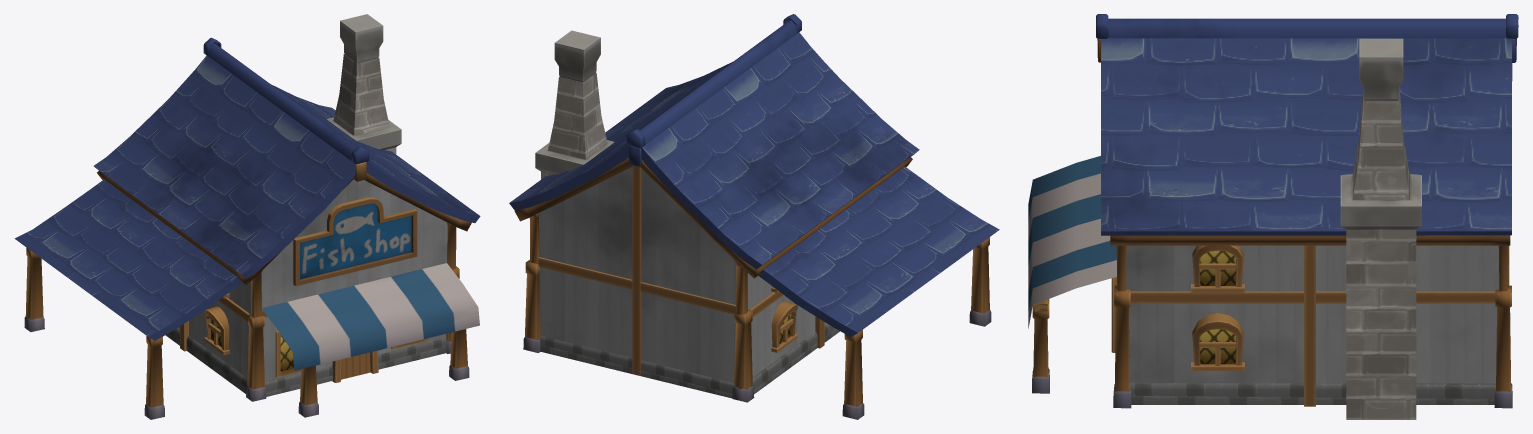
The model's file is fish_shop.fbx.
3 views of the same model, side by side, from view 1: azimuth 30°, elevation 25°; view 2: azimuth 150°, elevation 25°; view 3: azimuth 270°, elevation 25° (orthographic). The views are drawn at different scales.
Visible parts, largest first — view 1: fish_shop; view 2: fish_shop; view 3: fish_shop.
Boxes of the visible parts, x1,y1,x2,y2 form: fish_shop: [14, 14, 480, 419]; fish_shop: [509, 14, 999, 419]; fish_shop: [1028, 14, 1518, 419].
Size of the model in its own units: 1511 by 1128 by 1397.
3 materials, 3 textured.
